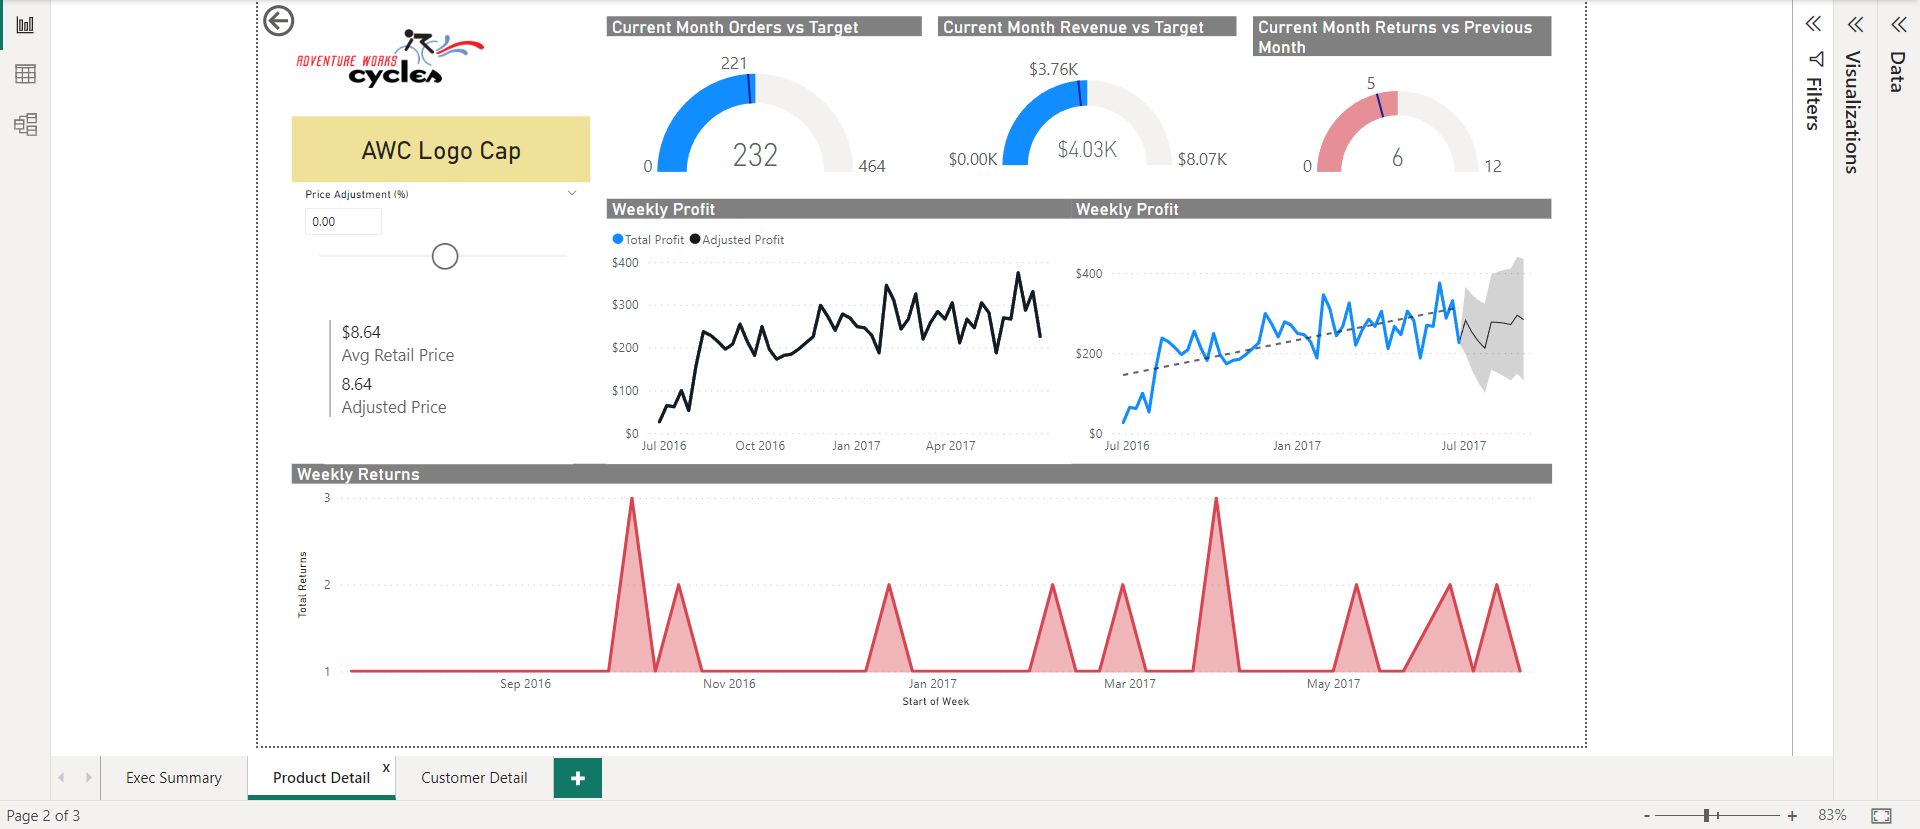

The page's visual inventory and layout, read from the dashboard file:
{"tool":"powerbi","page":{"name":"Product Detail","canvas":[1280,720],"ordinal":1},"visuals":[{"type":"image","box":[32,0,192,112],"z":0},{"type":"lineChart","title":"Weekly Profit","fields":{"Y":["AW_Sales.Total Profit"],"Category":["AW_Calendar_Lookup.Start of Week"]},"box":[784,192,464,256],"z":1000},{"type":"areaChart","title":"Weekly Returns","fields":{"Category":["AW_Calendar_Lookup.Start of Week"],"Y":["AW_Returns.Total Returns"]},"box":[32,448,1216,240],"z":2000},{"type":"gauge","title":"Current Month Orders vs Target","fields":{"Y":["AW_Sales.Total Orders"],"TargetValue":["AW_Sales.Order Target"]},"box":[336,16,304,160],"z":3000},{"type":"gauge","title":"Current Month Revenue vs Target","fields":{"Y":["AW_Sales.Total Revenue"],"TargetValue":["AW_Sales.Revenue Target"]},"box":[656,16,288,160],"z":4000},{"type":"gauge","title":"Current Month Returns vs Previous Month","fields":{"Y":["AW_Returns.Total Returns"],"TargetValue":["AW_Returns.Prev Month Returns"]},"box":[960,16,288,160],"z":5000},{"type":"card","fields":{"Values":["Min(AW_Product_Lookup.ProductName)"]},"box":[32,112,288,64],"z":6000},{"type":"actionButton","box":[0,0,100,40],"z":7000},{"type":"slicer","fields":{"Values":["Price Adjustment (%).Price Adjustment (%)"]},"box":[32,176,288,128],"z":8000},{"type":"multiRowCard","fields":{"Values":["AW_Product_Lookup.Avg Retail Price","AW_Product_Lookup.Adjusted Price"]},"box":[64,304,240,144],"z":9000},{"type":"lineChart","title":"Weekly Profit","fields":{"Y":["AW_Sales.Total Profit","AW_Sales.Adjusted Profit"],"Category":["AW_Calendar_Lookup.Start of Week"]},"box":[336,192,448,256],"z":10000}]}

Visuals, with their boxes on the page's 1280x720 design canvas (x1, y1, x2, y2). These are canvas units, not pixel positions in the 1920x829 screenshot, which may show the page scaled, cropped or inside an application window:
image: l=32, t=0, r=224, b=112
"Weekly Profit" lineChart: l=784, t=192, r=1248, b=448
"Weekly Returns" areaChart: l=32, t=448, r=1248, b=688
"Current Month Orders vs Target" gauge: l=336, t=16, r=640, b=176
"Current Month Revenue vs Target" gauge: l=656, t=16, r=944, b=176
"Current Month Returns vs Previous Month" gauge: l=960, t=16, r=1248, b=176
card - Min(AW_Product_Lookup.ProductName): l=32, t=112, r=320, b=176
actionButton: l=0, t=0, r=100, b=40
slicer - Price Adjustment (%).Price Adjustment (%): l=32, t=176, r=320, b=304
multiRowCard - AW_Product_Lookup.Avg Retail Price x AW_Product_Lookup.Adjusted Price: l=64, t=304, r=304, b=448
"Weekly Profit" lineChart: l=336, t=192, r=784, b=448
